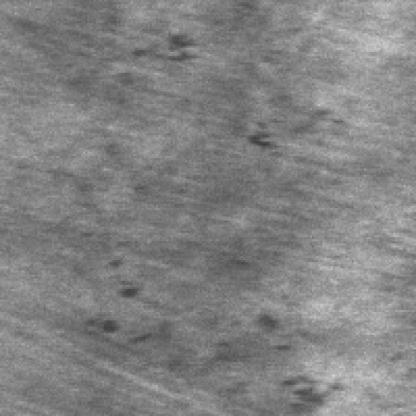rolled-in_scale: (208, 297, 350, 414), (250, 24, 341, 164)
